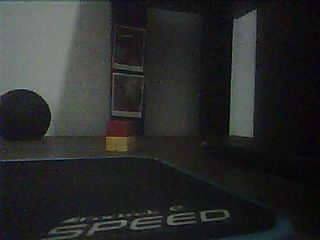lego: (104, 120, 141, 152)
